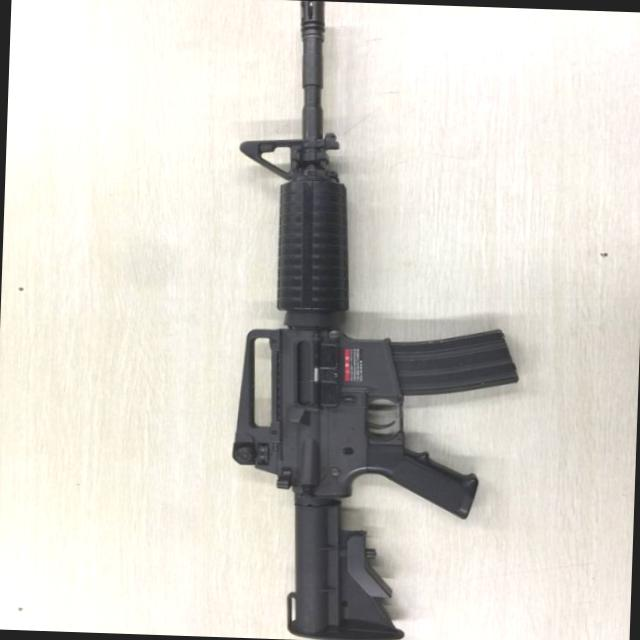long weapon: (201, 2, 530, 639)
